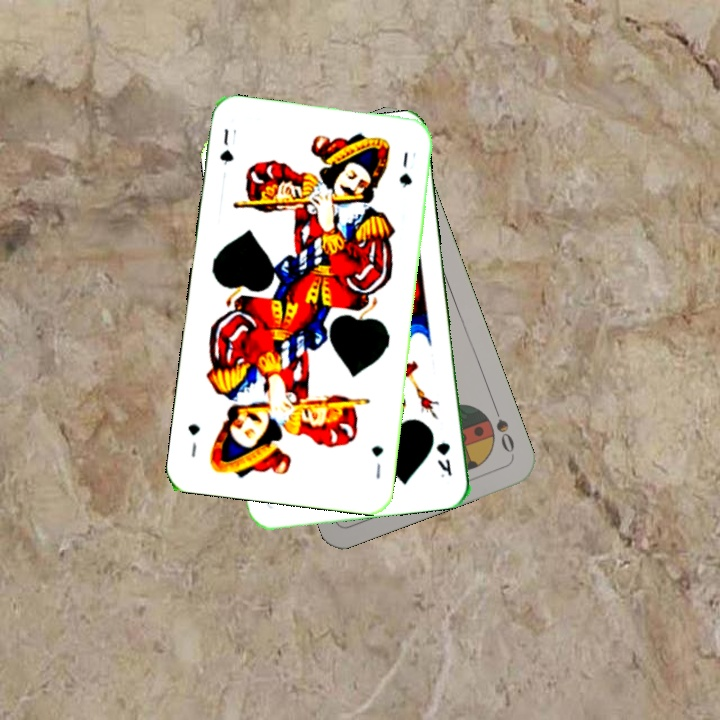GK: (432, 438, 455, 478)
GU: (215, 125, 239, 167), (368, 441, 386, 481)
SO: (489, 402, 517, 459)
